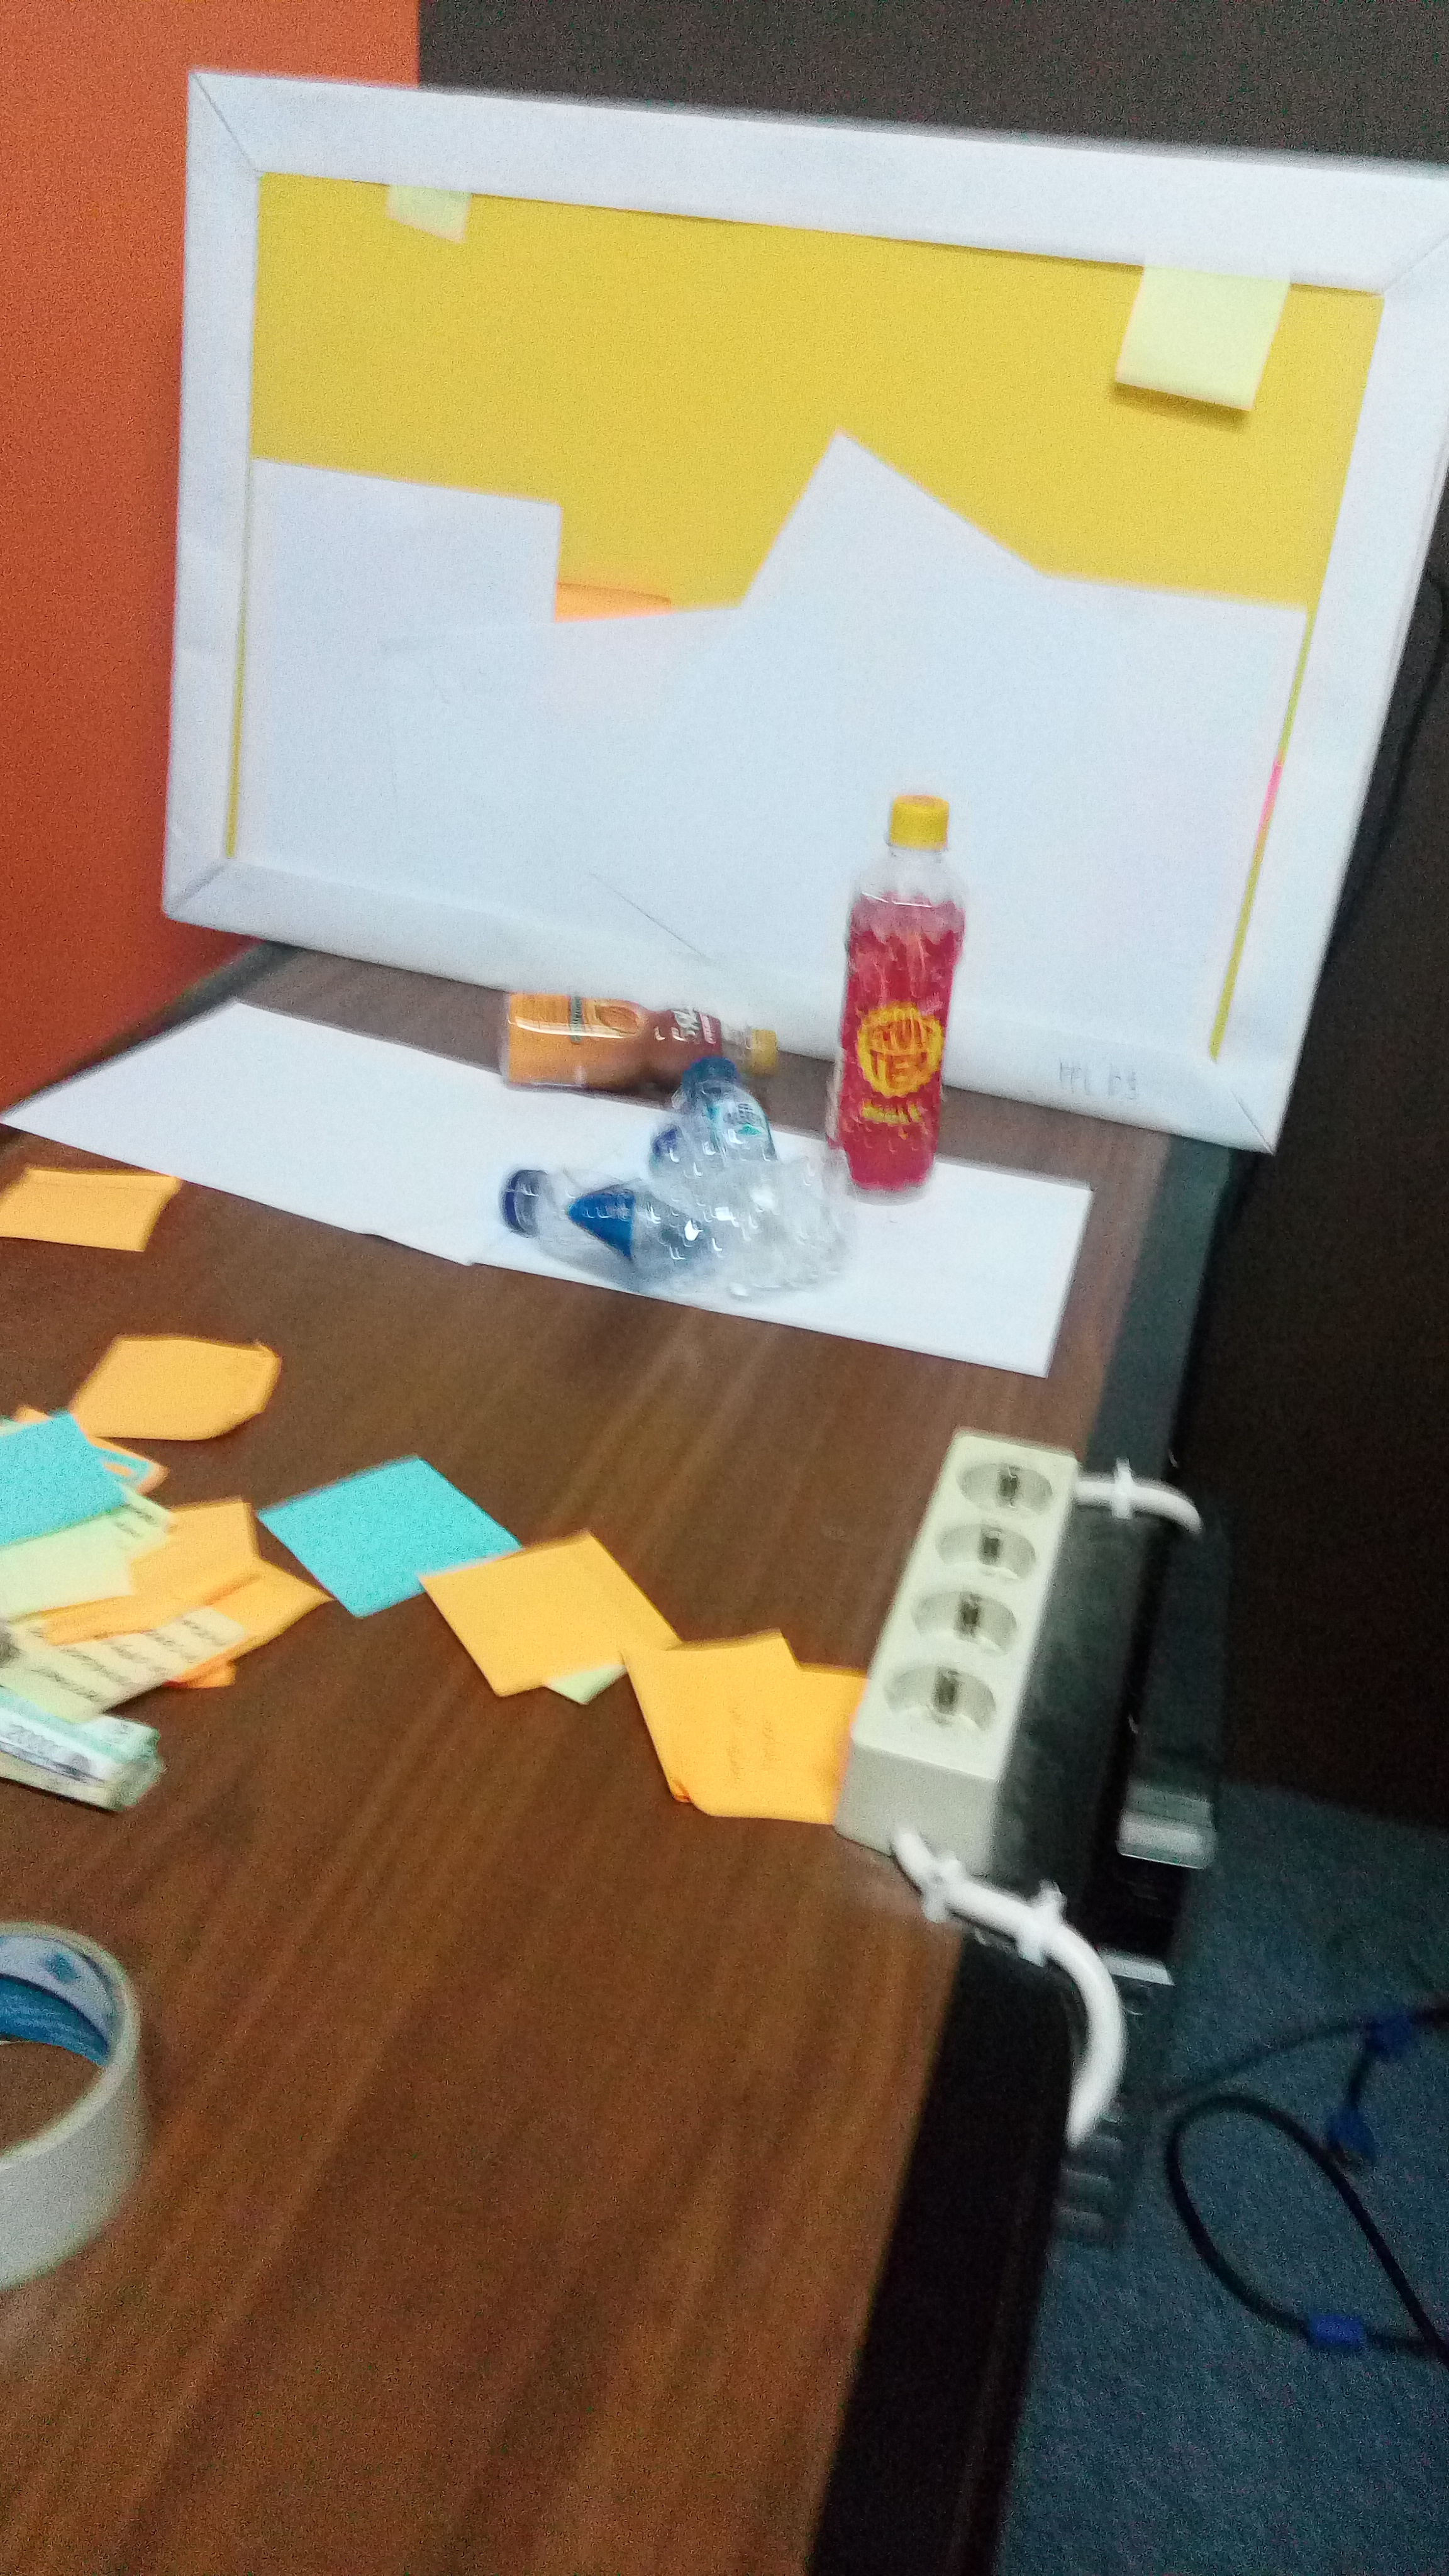botol: (619, 1069, 817, 1396), (487, 1150, 835, 1295), (839, 794, 962, 1187), (656, 1102, 814, 1373), (665, 1069, 817, 1299), (494, 971, 791, 1083)
